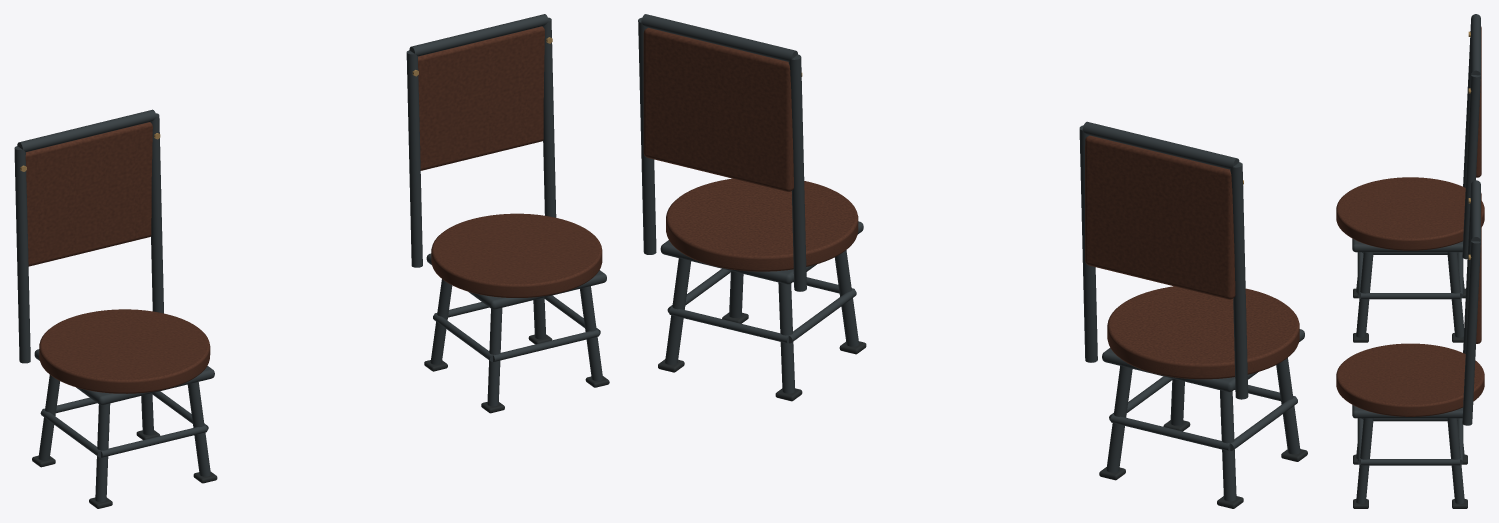
File: rooftop-chairs.glb
The picture shows the model from 3 angles, left to right: view 1: azimuth 30°, elevation 25°; view 2: azimuth 150°, elevation 25°; view 3: azimuth 270°, elevation 25°; orthographic projection. The views are drawn at different scales.
Parts seen in each view (by area): view 1: TerraceChairs_leather, TerraceChairs_steel, TerraceChairs_rubber; view 2: TerraceChairs_leather, TerraceChairs_steel, TerraceChairs_rubber; view 3: TerraceChairs_leather, TerraceChairs_steel, TerraceChairs_rubber.
Boxes of the visible parts, bbox=[...] form: TerraceChairs_leather: bbox=[25, 26, 602, 393]; TerraceChairs_steel: bbox=[14, 14, 606, 501]; TerraceChairs_rubber: bbox=[32, 334, 609, 508]; TerraceChairs_leather: bbox=[643, 27, 1299, 379]; TerraceChairs_steel: bbox=[638, 14, 1304, 501]; TerraceChairs_rubber: bbox=[658, 312, 1307, 508]; TerraceChairs_leather: bbox=[1336, 26, 1484, 416]; TerraceChairs_steel: bbox=[1352, 14, 1480, 503]; TerraceChairs_rubber: bbox=[1353, 288, 1467, 508].
Size of the model in its own units: 1.86 by 1.04 by 0.51.
Materials: 4 (1 with a texture image).
